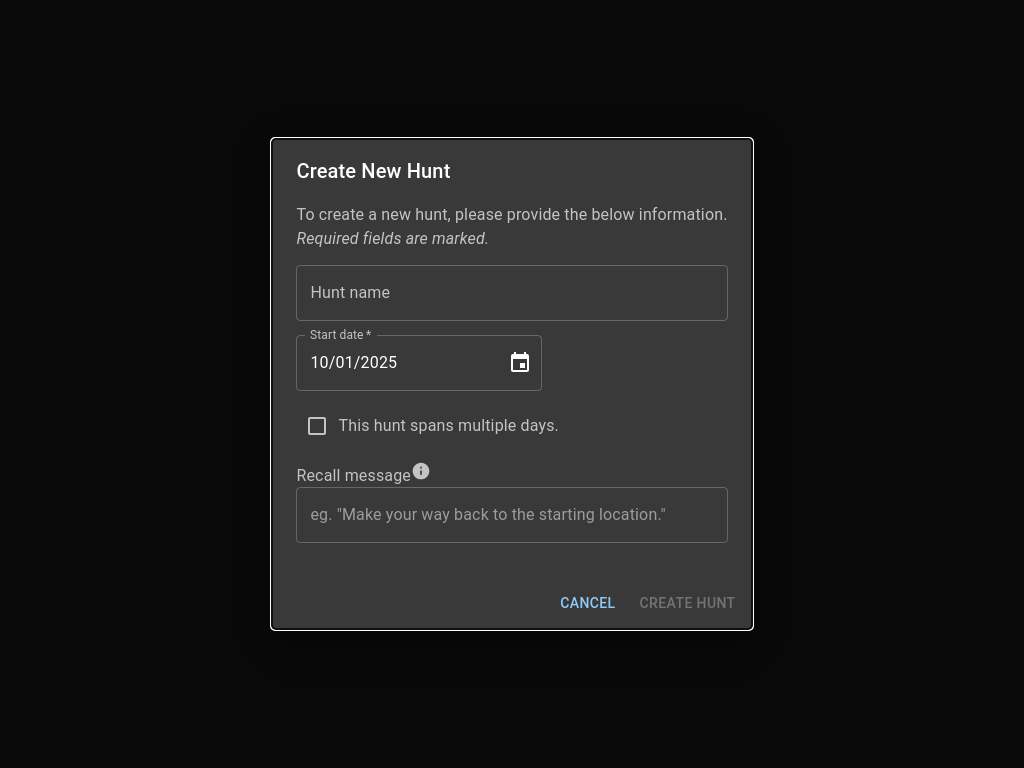
Test: CreateHuntDialog › End date field › DEFAULT
Click the checkbox with test id "create-hunt-multiple-days" at [318, 426], box [306, 414, 330, 438]
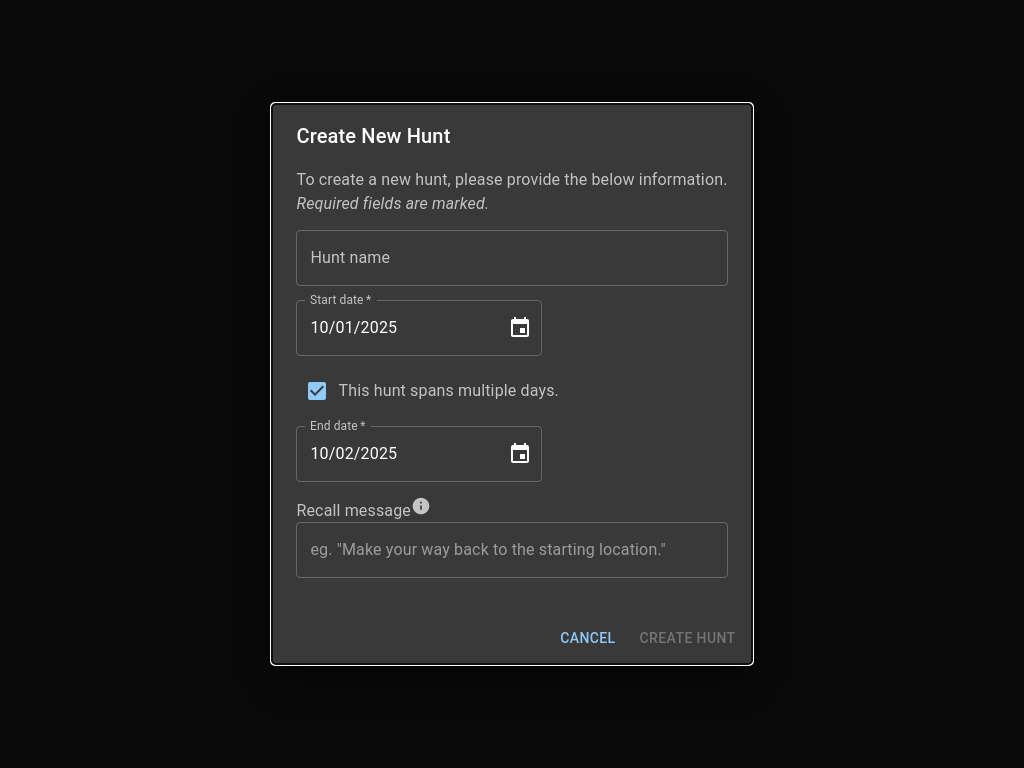
Expected: the checkbox with test id "create-hunt-multiple-days" is checked, [306, 379, 330, 403]
Expected: the text "End date *" is shown, [310, 417, 366, 434]
